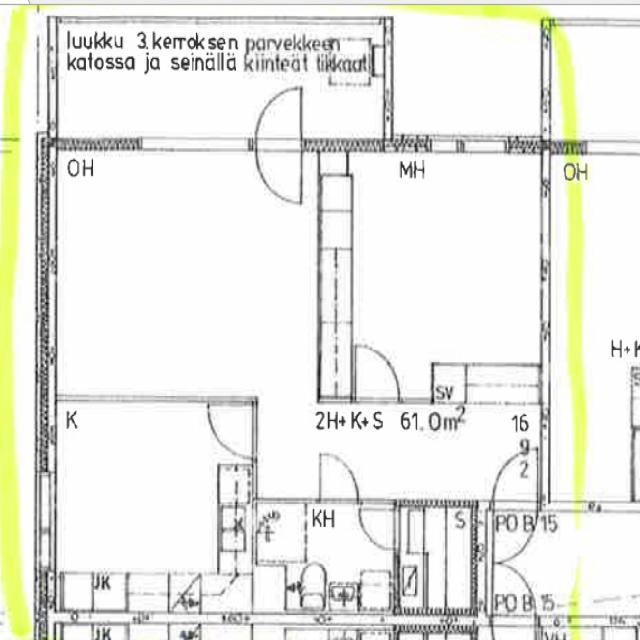door: (256, 138, 302, 205), (256, 85, 302, 151), (206, 403, 257, 458), (493, 500, 537, 562), (493, 449, 537, 510), (355, 345, 399, 402), (319, 455, 358, 504), (362, 510, 401, 547)
